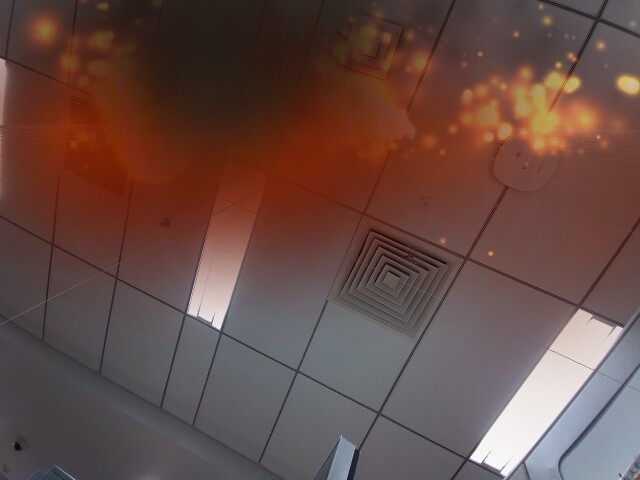fire: (113, 117, 194, 184)
